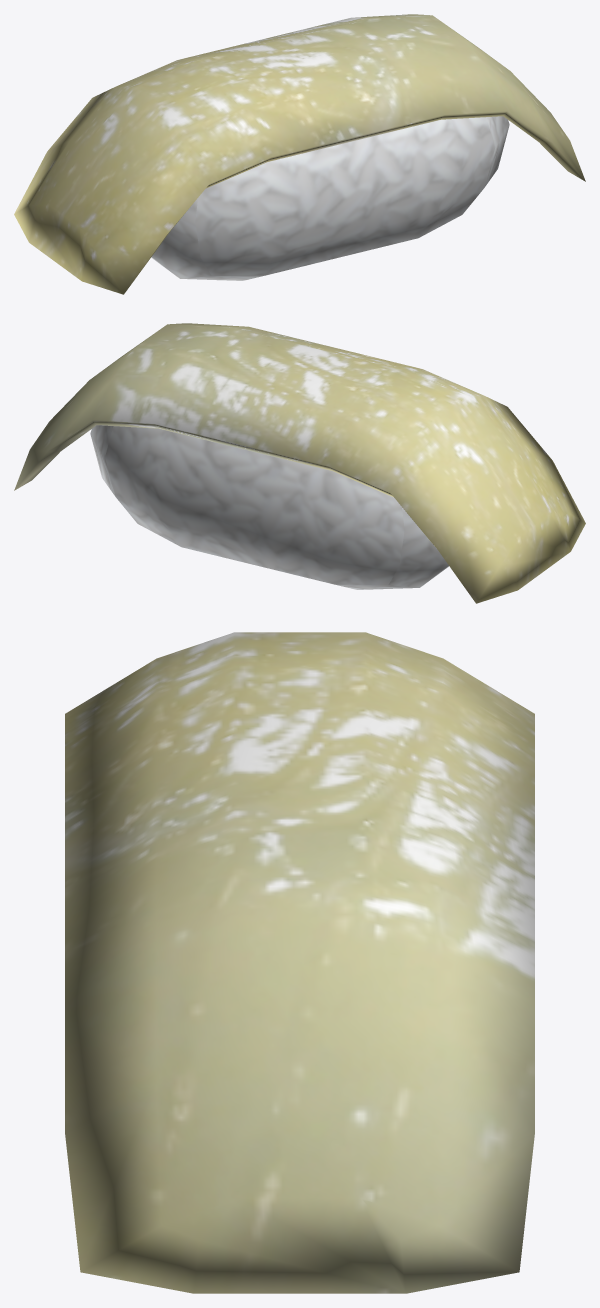
Rendered from squid.fbx.
3 views of the same model, one above another, from view 1: azimuth 30°, elevation 25°; view 2: azimuth 150°, elevation 25°; view 3: azimuth 270°, elevation 25° (orthographic). The views are drawn at different scales.
Parts seen in each view (by area): view 1: squid; view 2: squid; view 3: squid.
Part boxes in pixels (box(x1,y1,x2,y2)): squid: box(14, 14, 585, 294); squid: box(14, 323, 585, 603); squid: box(65, 632, 534, 1293).
Size of the model in its own units: 7.62 by 2.86 by 3.17.
